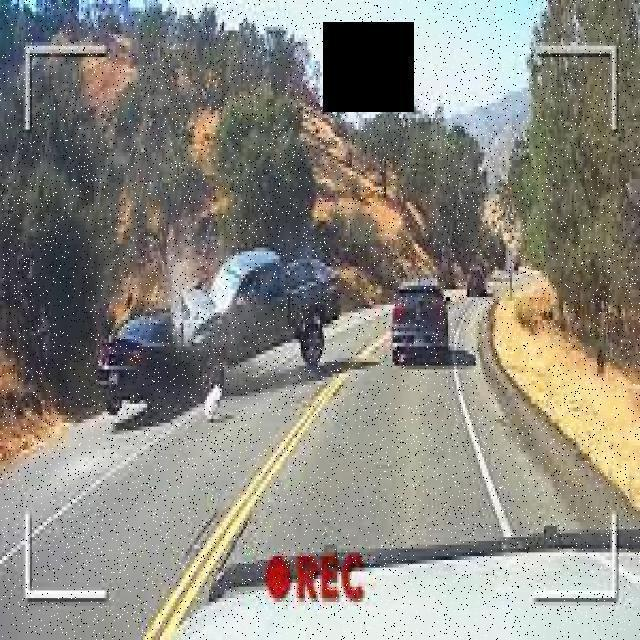accident: (94, 240, 344, 434)
